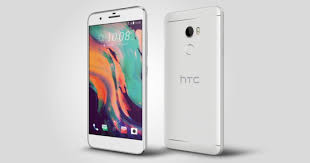htc: (87, 2, 149, 158), (163, 1, 225, 156)
